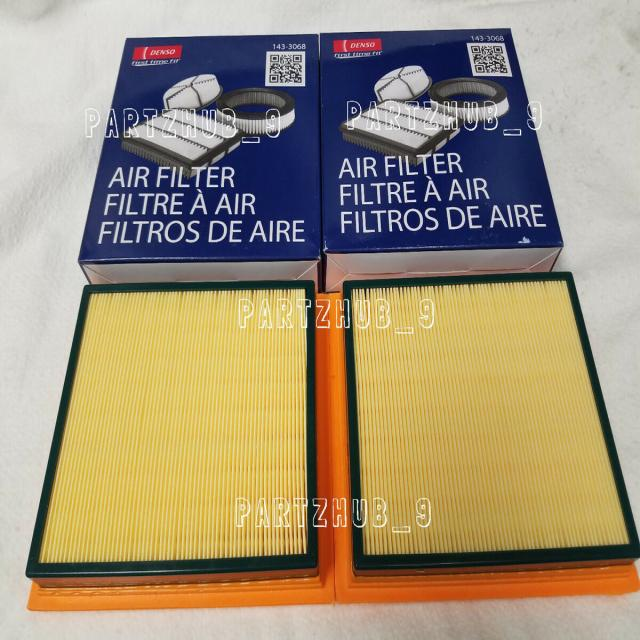air_filter: (26, 274, 318, 580), (342, 276, 640, 570)
